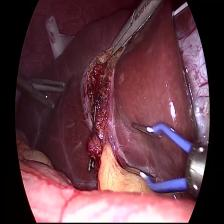Bipolar: (123, 117, 207, 202)
Grasper: (106, 0, 168, 58), (13, 73, 70, 113)
Specimen Bag: (45, 18, 78, 62)
